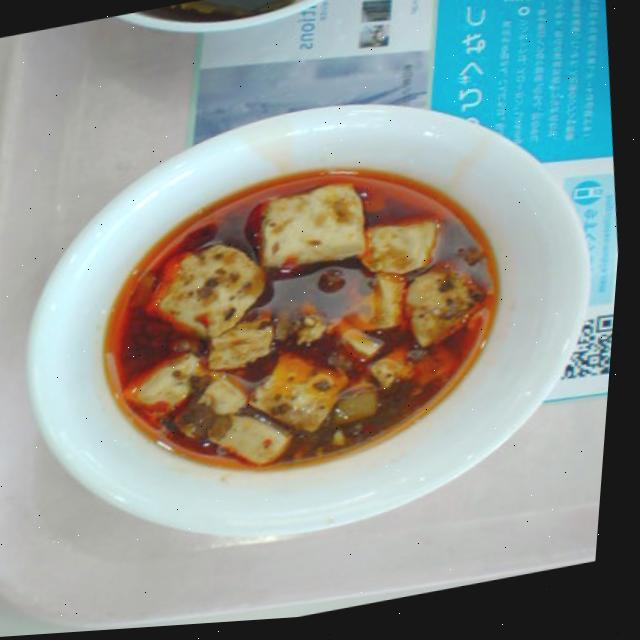豆腐料理: (2, 56, 635, 597)
